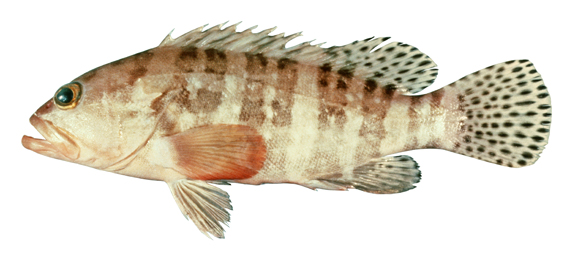fish: (21, 19, 553, 240)
